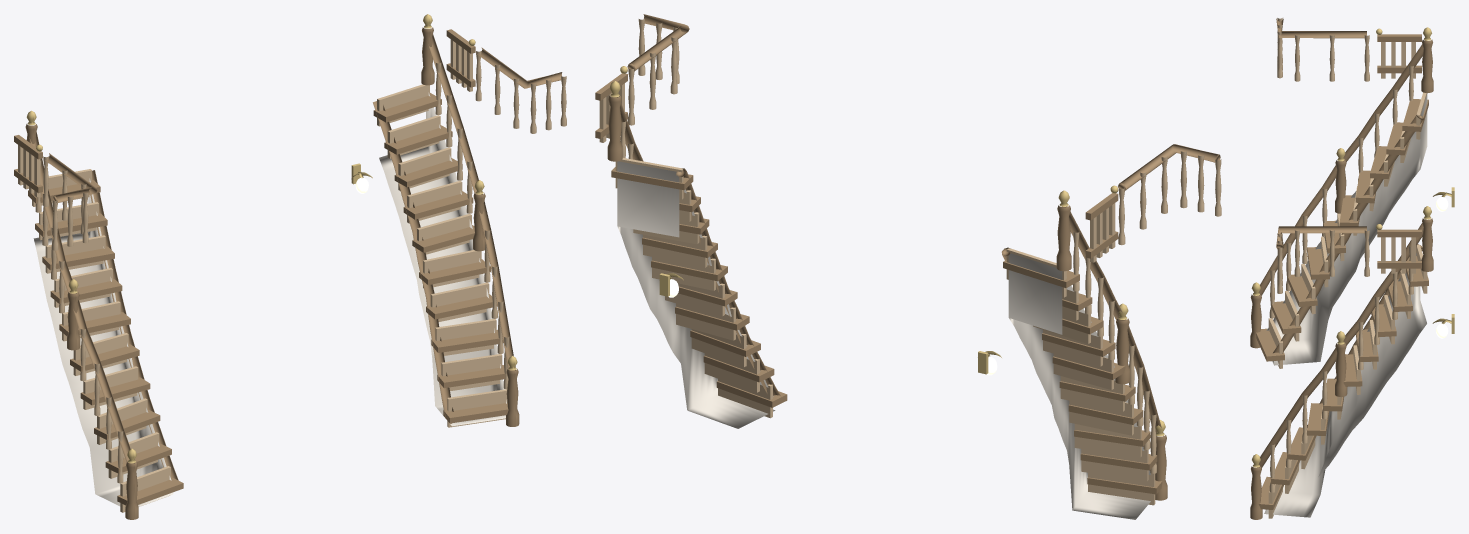
The model's file is grand_staircases.glb.
3 views of the same model, side by side, from view 1: azimuth 30°, elevation 25°; view 2: azimuth 150°, elevation 25°; view 3: azimuth 270°, elevation 25° (orthographic). The views are drawn at different scales.
Parts seen in each view (by area): view 1: Grand_Staircases_Static, StairGate_Right, StairGate_Left; view 2: Grand_Staircases_Static, StairGate_Left, StairGate_Right; view 3: Grand_Staircases_Static, StairGate_Right, StairGate_Left, Stair_Lamp_Bulbs.
Part boxes in pixels (x1,y1,x2,y2): Grand_Staircases_Static: [25, 14, 566, 519]; StairGate_Right: [446, 29, 475, 91]; StairGate_Left: [14, 135, 42, 197]; Grand_Staircases_Static: [607, 14, 1221, 519]; StairGate_Left: [1085, 185, 1118, 262]; StairGate_Right: [595, 66, 627, 142]; Grand_Staircases_Static: [1250, 18, 1454, 519]; StairGate_Right: [1376, 224, 1421, 273]; StairGate_Left: [1376, 28, 1421, 78]; Stair_Lamp_Bulbs: [1436, 196, 1448, 338].
Size of the model in its own units: 5.42 by 3.43 by 2.02.
